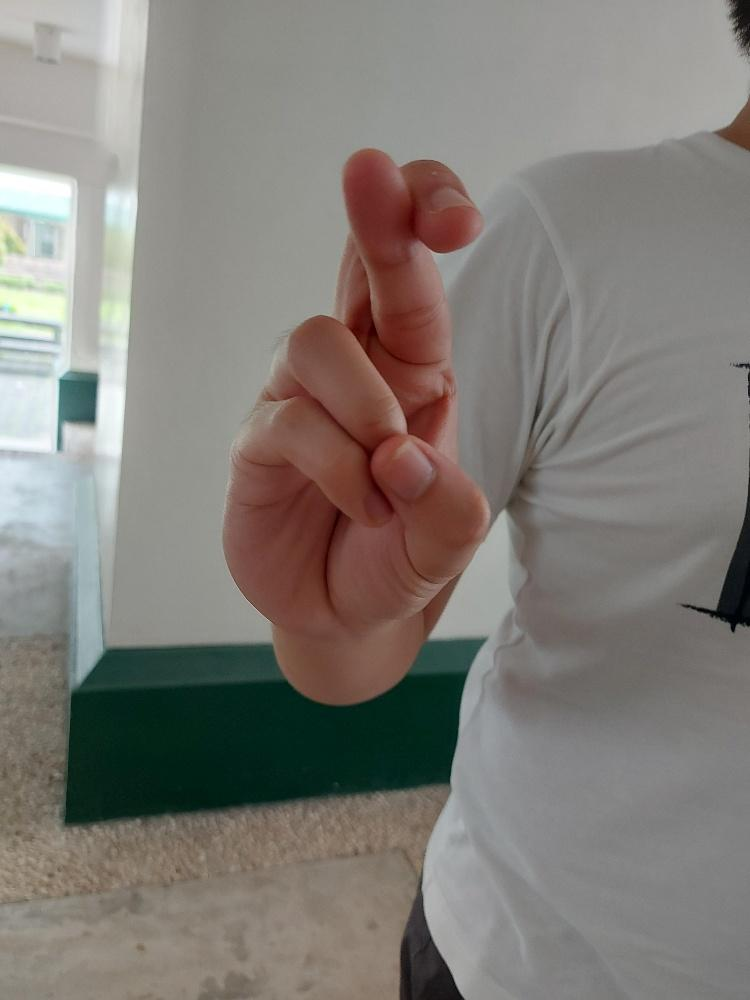r: (217, 141, 492, 643)
